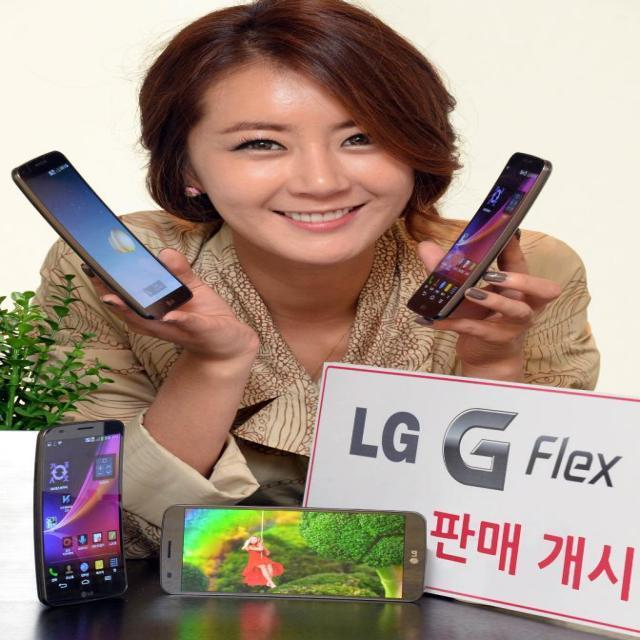Phone: (11, 148, 198, 326), (160, 503, 428, 605), (406, 145, 556, 325), (31, 419, 130, 606)
